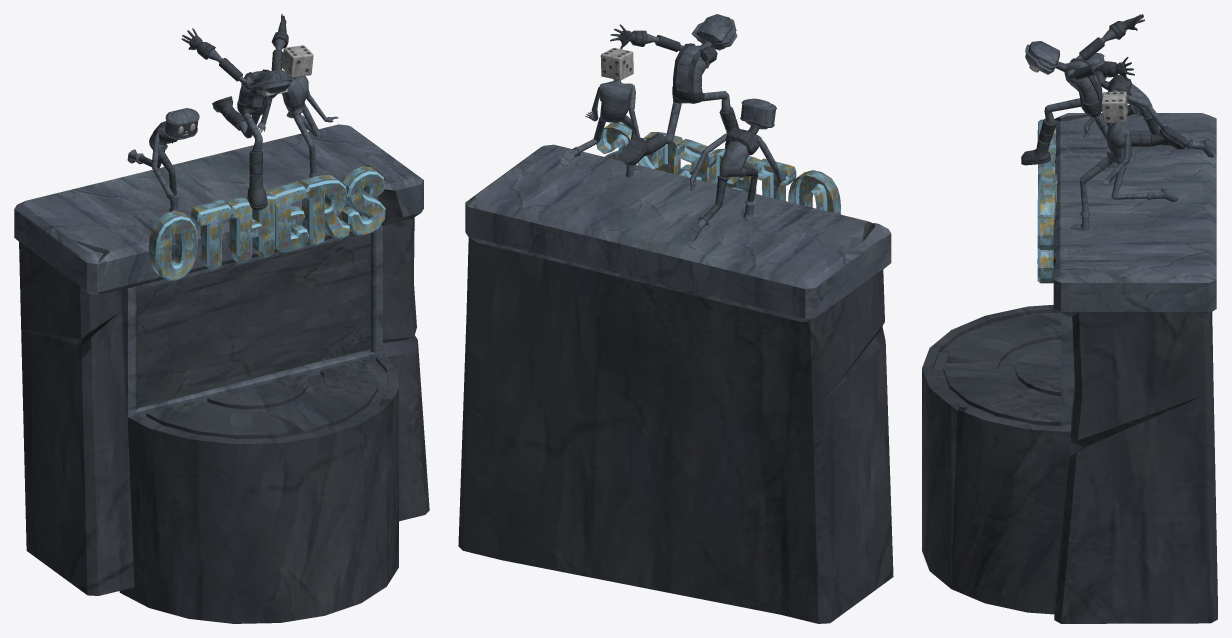
Rendered from pm-stand-others-02.glb.
The picture shows the model from 3 angles, left to right: view 1: azimuth 30°, elevation 25°; view 2: azimuth 150°, elevation 25°; view 3: azimuth 270°, elevation 25°; orthographic projection. The views are drawn at different scales.
Visible parts, largest first — view 1: StandOthers02; view 2: StandOthers02; view 3: StandOthers02.
Part boxes in pixels (x1,y1,x2,y2): StandOthers02: (14,14,429,623); StandOthers02: (458,14,893,623); StandOthers02: (922,14,1217,623).
Size of what is drawn, in the model's own units: 11.12 by 15.93 by 8.14.
Materials: 1 (1 with a texture image).
